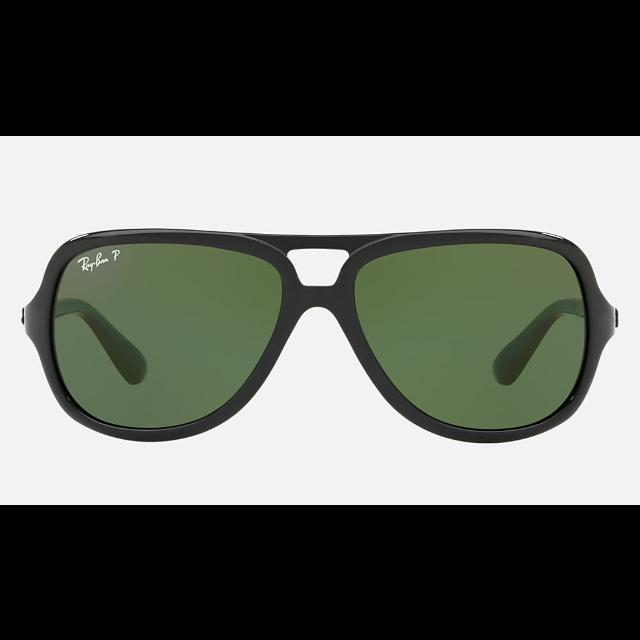Sunglasses: (22, 228, 618, 442)
